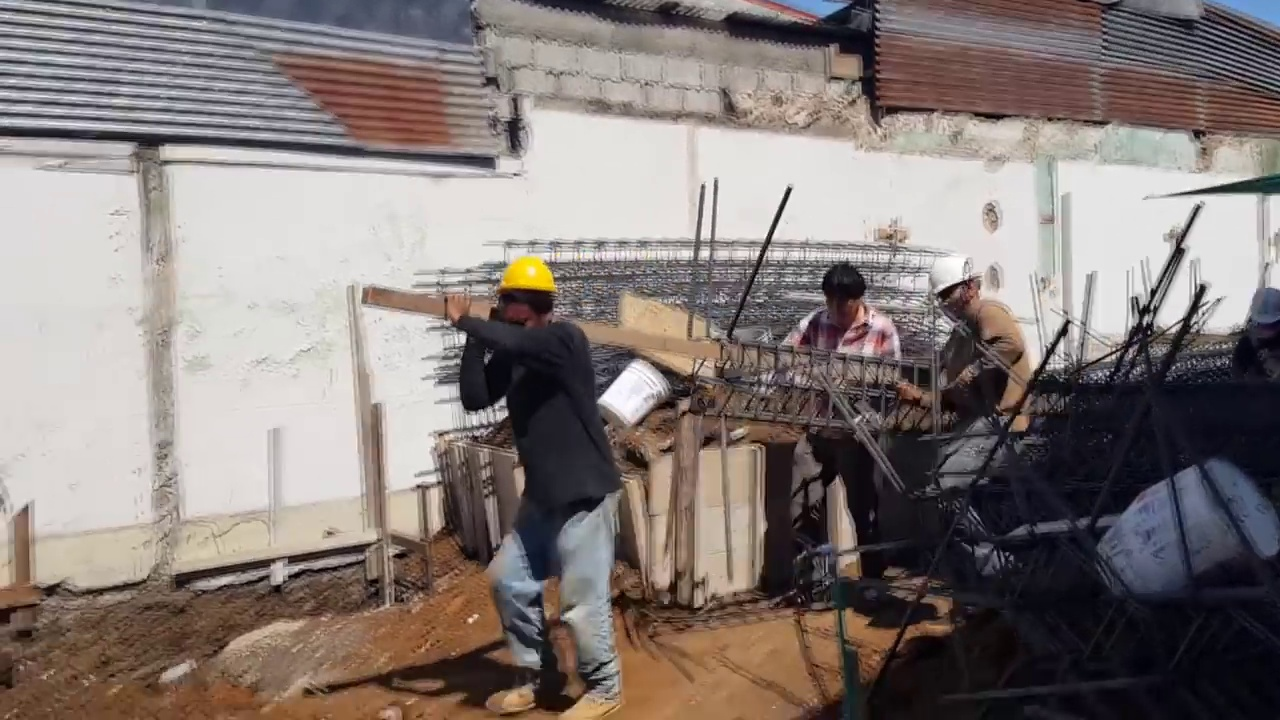helmet: (496, 258, 557, 296), (930, 258, 983, 295), (1247, 286, 1280, 327)
helmet-off: (821, 265, 870, 336)
helmet-on: (495, 258, 558, 336), (930, 256, 993, 324), (1244, 285, 1280, 340)
person: (466, 242, 622, 713), (778, 259, 907, 618), (898, 261, 1036, 538), (1230, 285, 1280, 404)
